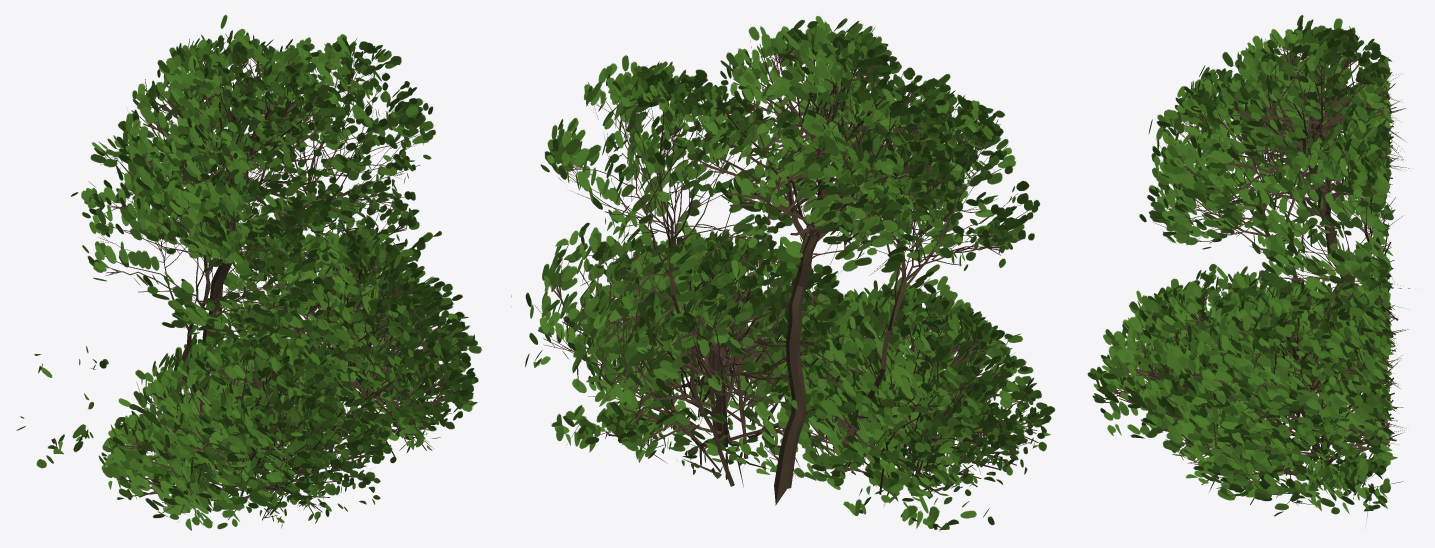
The picture shows the model from 3 angles, left to right: view 1: azimuth 30°, elevation 25°; view 2: azimuth 150°, elevation 25°; view 3: azimuth 270°, elevation 25°; orthographic projection. The views are drawn at different scales.
Parts seen in each view (by area): view 1: oak 01.001_trunk_Mat.001_0.392; view 2: oak 01.001_trunk_Mat.001_0.392; view 3: oak 01.001_trunk_Mat.001_0.392.
Boxes of the visible parts, x1,y1,x2,y2 form: oak 01.001_trunk_Mat.001_0.392: (16, 14, 481, 530); oak 01.001_trunk_Mat.001_0.392: (511, 16, 1055, 531); oak 01.001_trunk_Mat.001_0.392: (1087, 15, 1409, 518).
Bounding box in the file's own units: 4.12 × 3.98 × 2.88.
2 materials, 1 textured.
